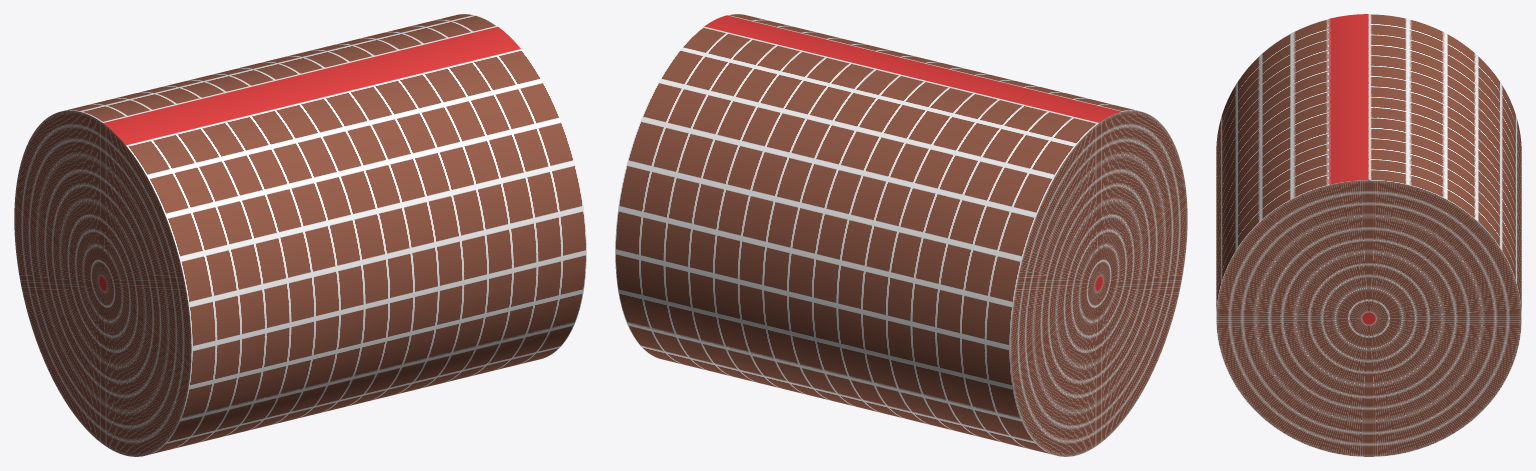
The model's file is prueba_cilindro_cuadricula.glb.
3 views of the same model, side by side, from view 1: azimuth 30°, elevation 25°; view 2: azimuth 150°, elevation 25°; view 3: azimuth 270°, elevation 25° (orthographic). The views are drawn at different scales.
Parts seen in each view (by area): view 1: test_cil; view 2: test_cil; view 3: test_cil.
Part boxes in pixels (box(x1,y1,x2,y2)): test_cil: box(14, 14, 586, 456); test_cil: box(615, 14, 1187, 456); test_cil: box(1216, 14, 1521, 456).
Size of the model in its own units: 1.93 by 1.5 by 1.5.
1 material, 1 textured.
